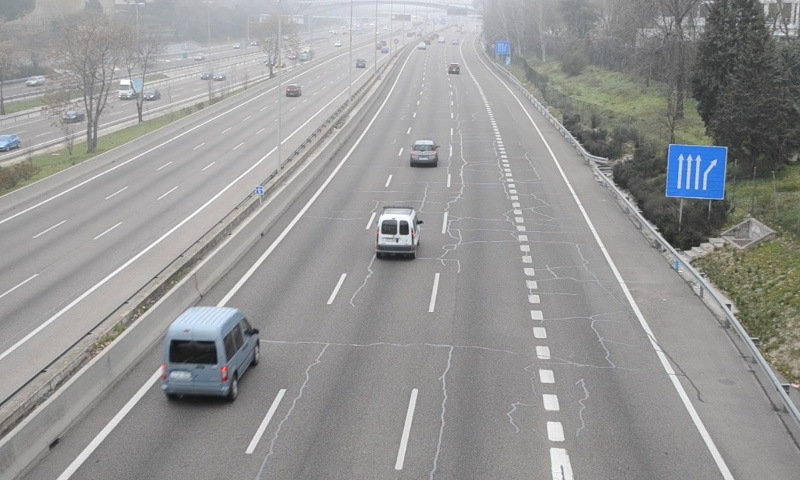car: (409, 139, 439, 165)
van: (163, 306, 259, 399), (376, 208, 420, 256)
